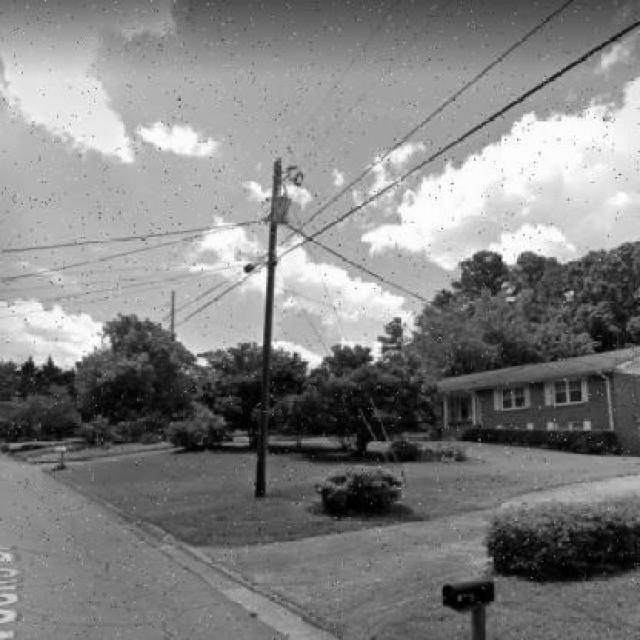pole: (255, 158, 288, 499)
wire: (166, 19, 640, 329), (157, 0, 575, 324), (0, 217, 443, 310), (0, 220, 253, 284)
